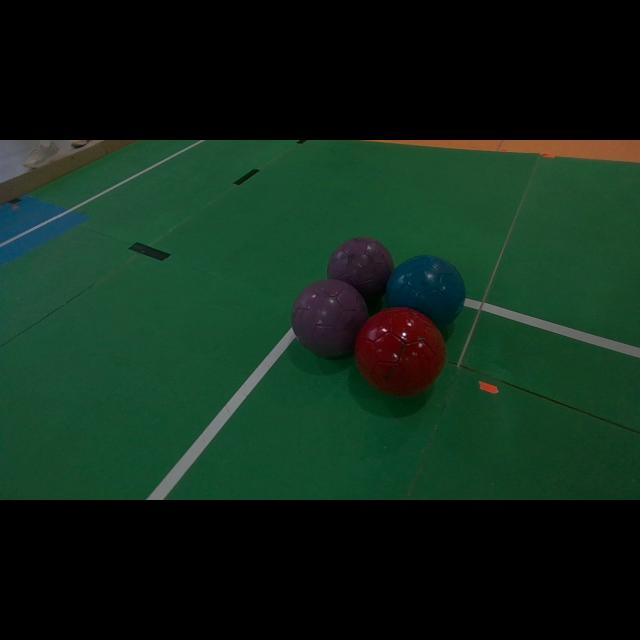B: (388, 255, 465, 328)
P: (291, 279, 368, 358), (328, 238, 394, 299)
R: (355, 308, 445, 396)
